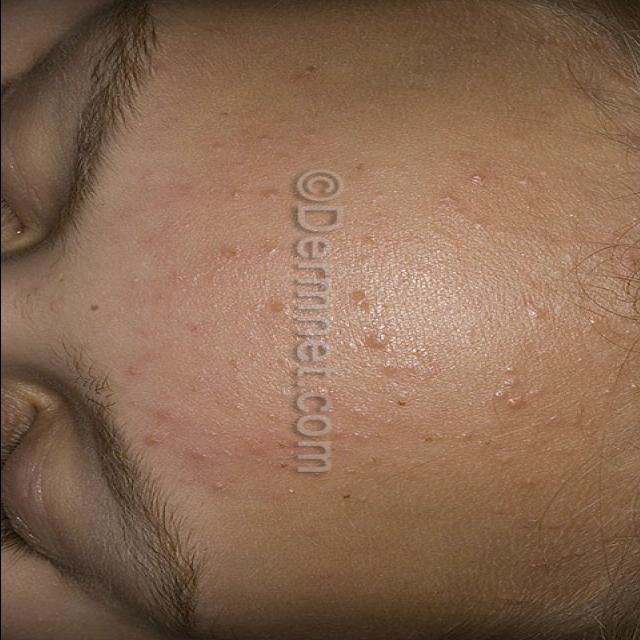Acne: (487, 389, 529, 411), (184, 445, 218, 467), (213, 244, 247, 266), (205, 474, 231, 498), (362, 332, 394, 351), (498, 364, 520, 389), (258, 186, 286, 204), (434, 191, 462, 209), (142, 432, 167, 452), (260, 241, 286, 259), (466, 217, 491, 235), (466, 170, 490, 188), (512, 174, 536, 192), (120, 363, 146, 379), (222, 186, 246, 203), (524, 306, 549, 320)
